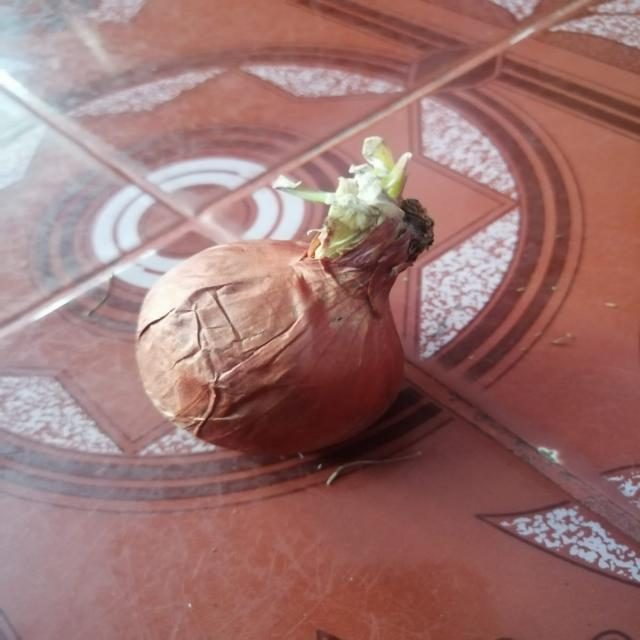sprouting: (313, 156, 417, 245)
